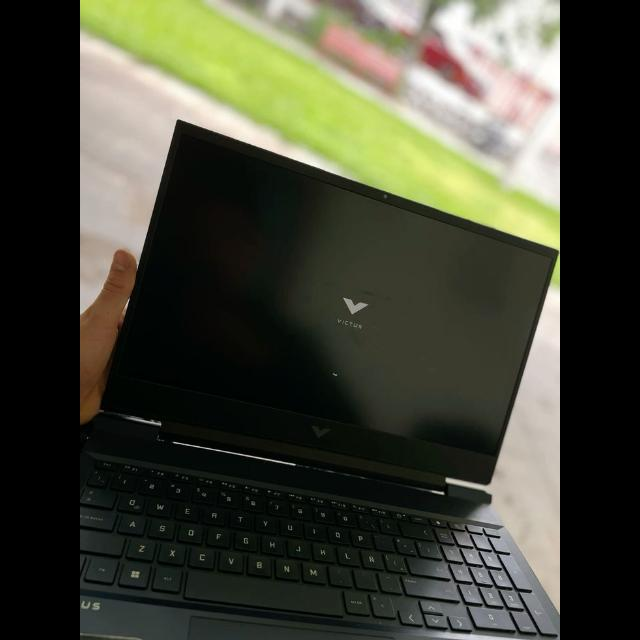laptop: (80, 121, 560, 639)
